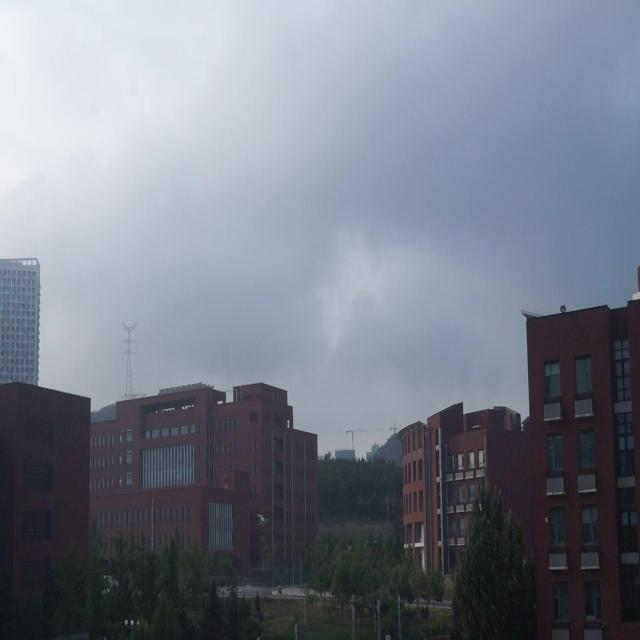drone: (252, 507, 271, 531)
